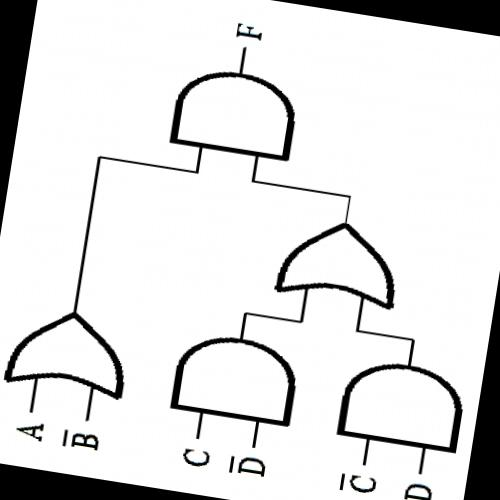and: (156, 54, 308, 172), (326, 347, 475, 462), (161, 321, 308, 436)
or: (265, 204, 412, 317), (0, 294, 143, 407)
